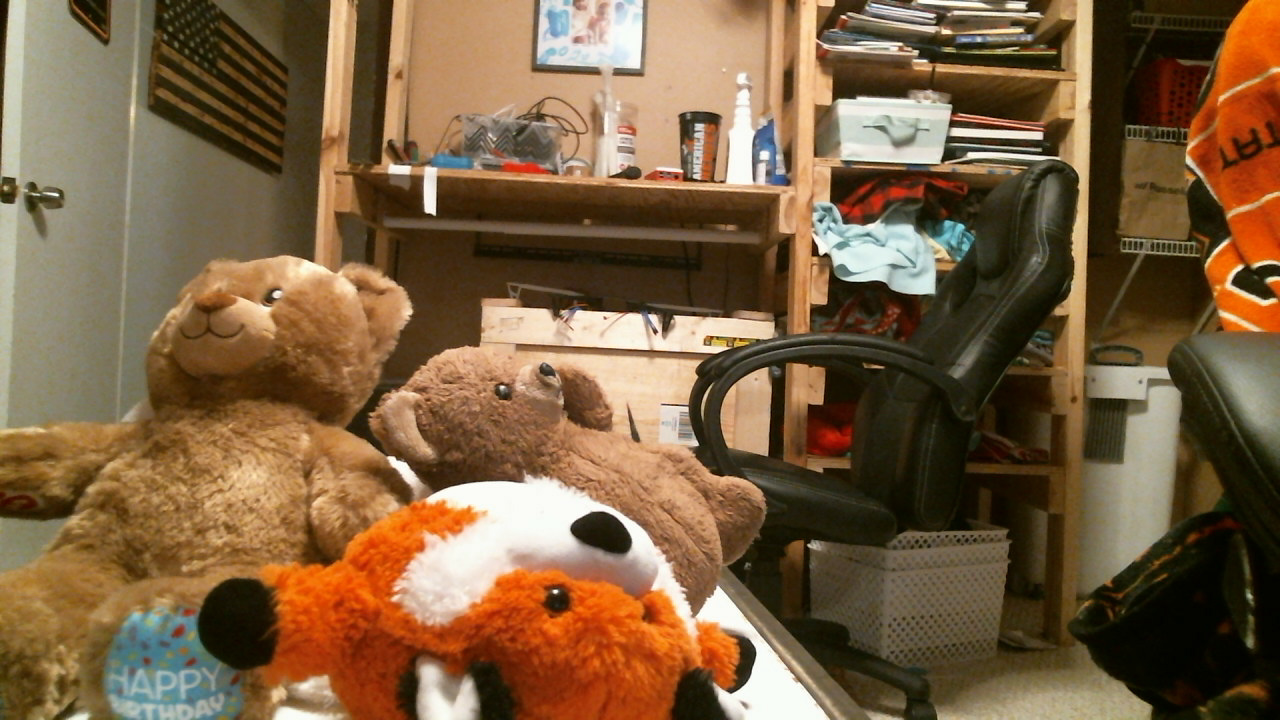Little_Mister_Bear: (457, 365, 590, 470)
